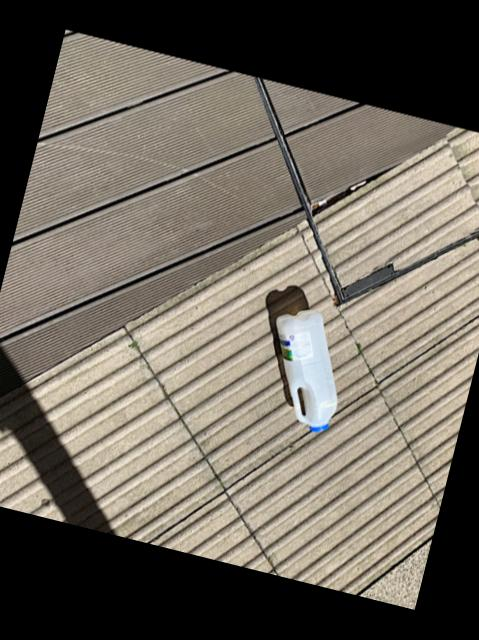plastic: (275, 310, 336, 428)
